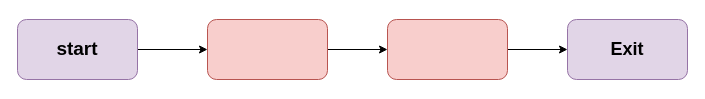
Some shapes in this 705 by 99 pixel diagram are drawn without their labels. Here are the shapes that lost their labels. From the top down, the centre of each, then its label:
At pixel 267 49: "Enter your choice".
At pixel 447 49: "Thanks for voting".
